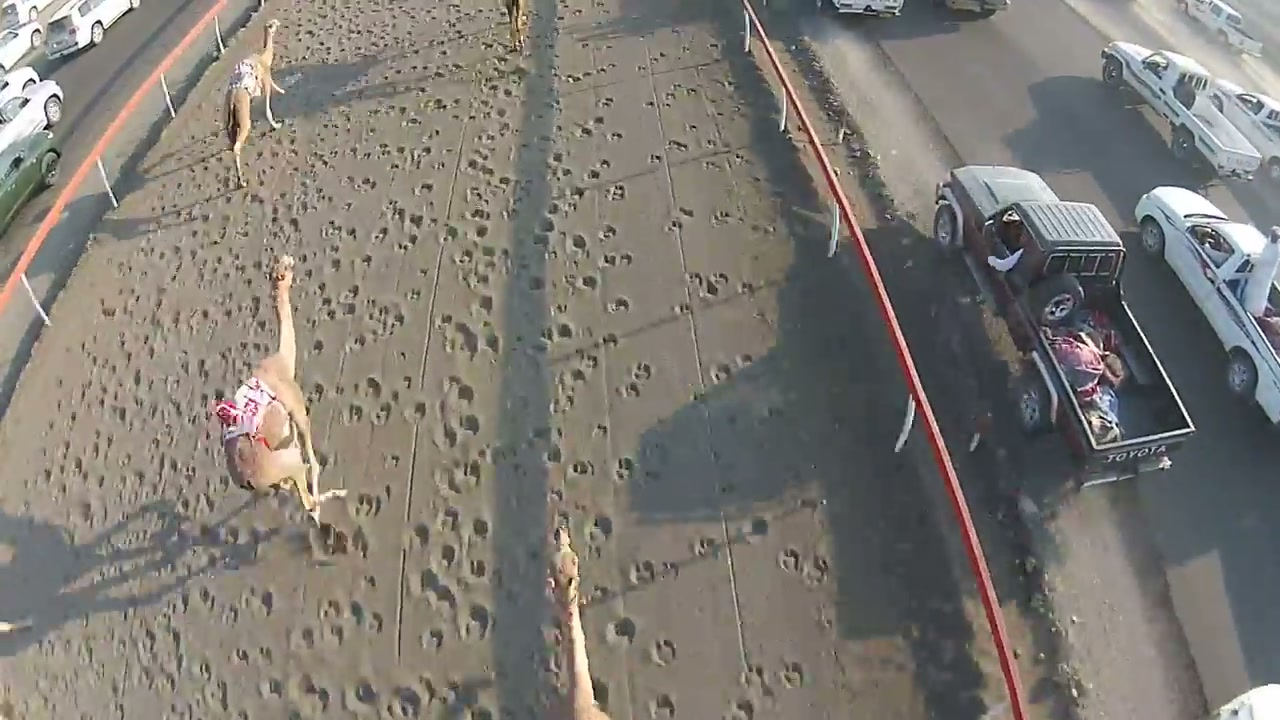animal_footprint: (386, 29, 564, 717), (95, 120, 295, 708), (278, 111, 400, 718), (579, 51, 669, 711)
